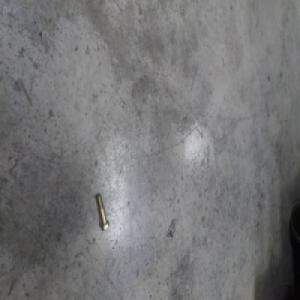Bolt: (95, 192, 110, 233)
